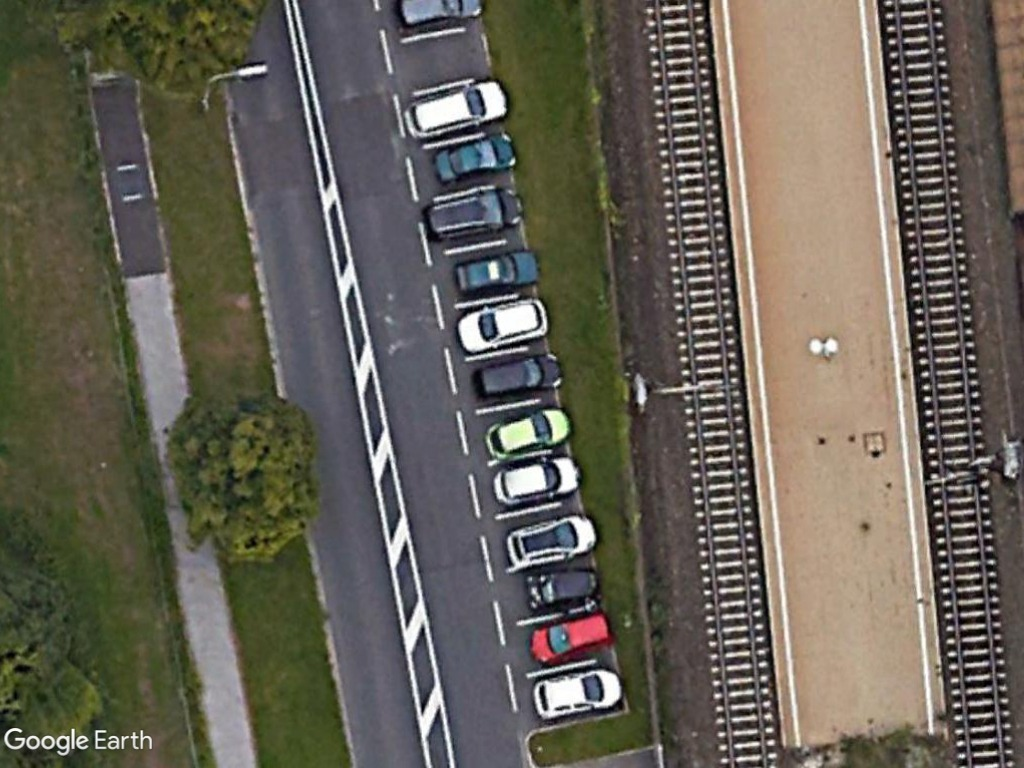car: (399, 77, 515, 143), (529, 662, 632, 727), (422, 181, 528, 242), (454, 290, 552, 355), (501, 510, 602, 570), (487, 448, 584, 509), (429, 126, 522, 186), (481, 404, 575, 463), (466, 349, 567, 402), (525, 610, 617, 664), (452, 247, 543, 299), (521, 561, 608, 614)
